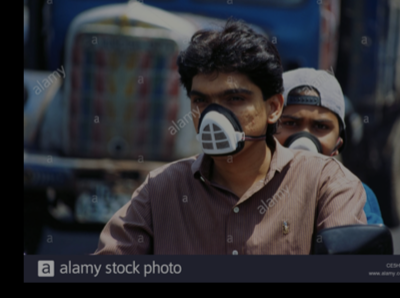with_mask: (189, 84, 266, 159), (277, 109, 338, 156)
